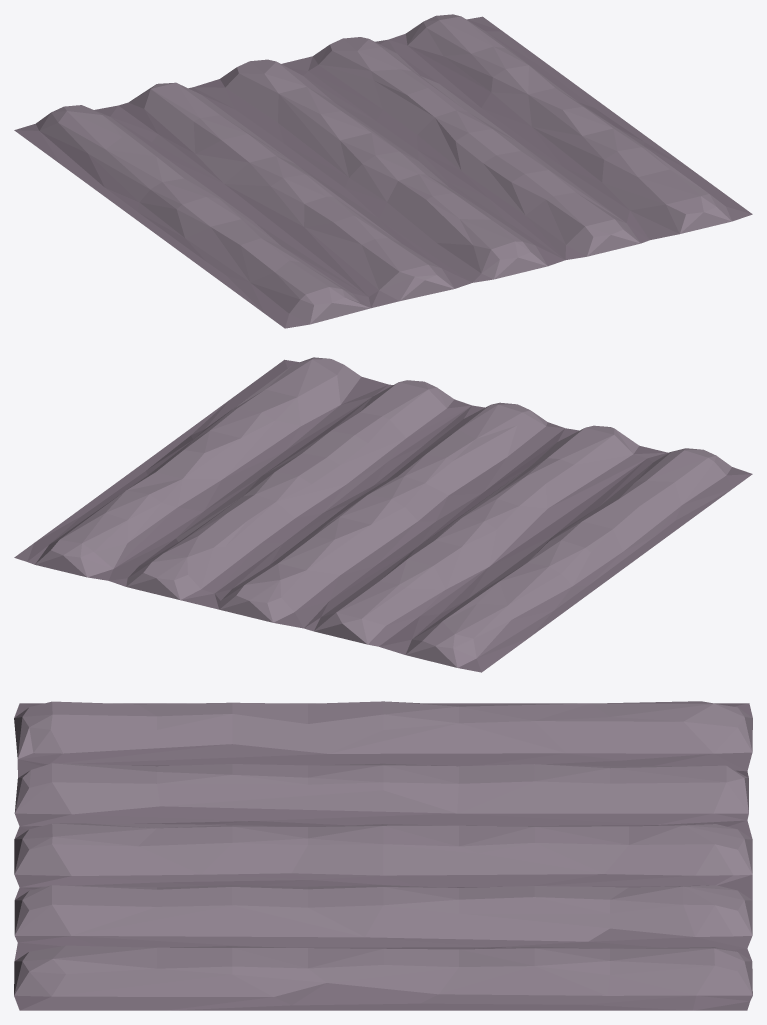
Rendered from SM_Env_Dirt_Rows_01.fbx.
The picture shows the model from 3 angles, top to bottom: view 1: azimuth 30°, elevation 25°; view 2: azimuth 150°, elevation 25°; view 3: azimuth 270°, elevation 25°; orthographic projection. The views are drawn at different scales.
Visible parts, largest first — view 1: SM_Env_Dirt_Rows_01; view 2: SM_Env_Dirt_Rows_01; view 3: SM_Env_Dirt_Rows_01.
Part boxes in pixels (box(x1,y1,x2,y2)): SM_Env_Dirt_Rows_01: box(14, 14, 752, 328); SM_Env_Dirt_Rows_01: box(14, 357, 752, 672); SM_Env_Dirt_Rows_01: box(14, 701, 752, 1010).
Bounding box in the file's own units: 4.99 × 0.1984 × 5.07.
1 material, 1 textured.
